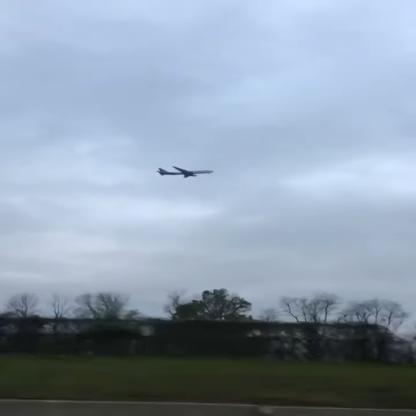plane: (153, 160, 218, 183)
